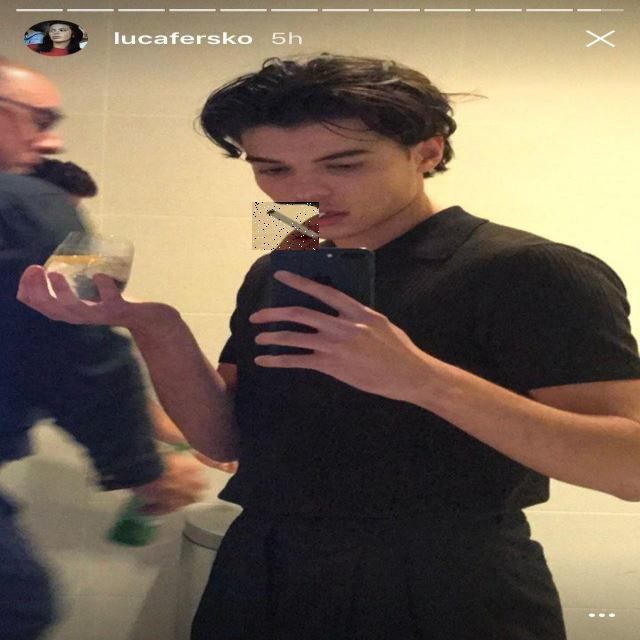smoking: (252, 202, 319, 250)
